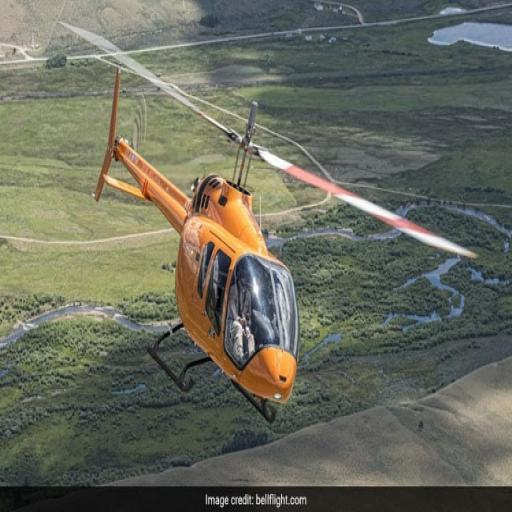helicopter: (91, 91, 488, 425)
